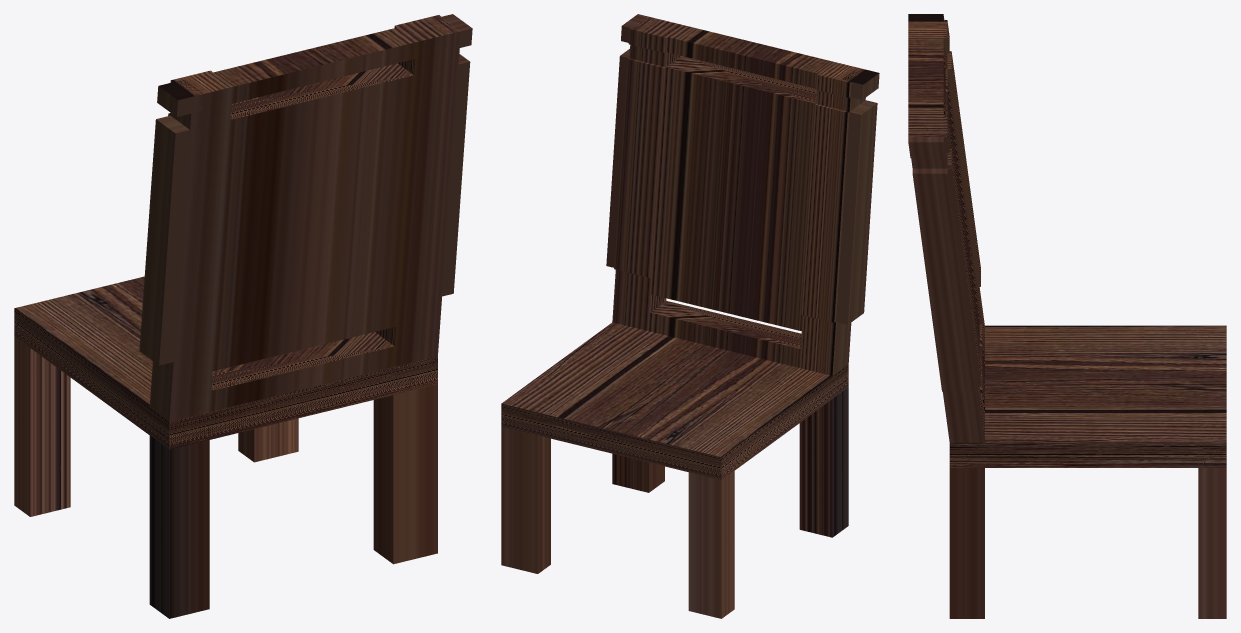
File: kursi1.glb
3 views of the same model, side by side, from view 1: azimuth 30°, elevation 25°; view 2: azimuth 150°, elevation 25°; view 3: azimuth 270°, elevation 25° (orthographic). The views are drawn at different scales.
Visible parts, largest first — view 1: Cube; view 2: Cube; view 3: Cube.
Part boxes in pixels (box(x1,y1,x2,y2)): Cube: box(14, 14, 472, 618); Cube: box(501, 14, 879, 618); Cube: box(908, 14, 1226, 618).
Size of the model in its own units: 0.2185 by 0.3824 by 0.2288.
1 material, 1 textured.
